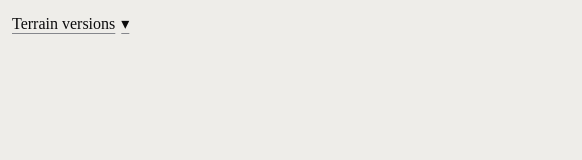
Scenario: VersionsFold › says why there are none for a point picked on the map, and shows nothing on a flat horizon
Click the button "Terrain versions ▾" at (71, 24), box [12,4,129,44]
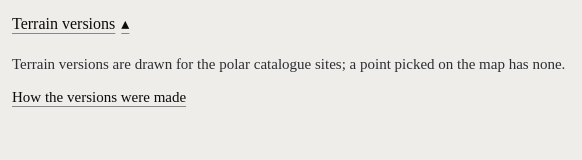
Expected: the text "a point picked on the map has none" is shown, [12,56,565,72]
